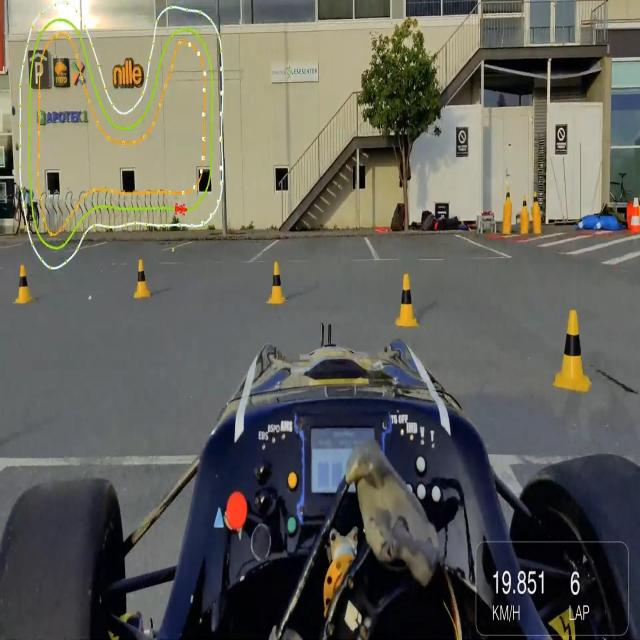large_orange_cone: (631, 194, 640, 232)
yellow_cone: (553, 306, 591, 393), (397, 272, 420, 329), (265, 260, 289, 306), (13, 262, 34, 308), (133, 257, 152, 300), (521, 194, 529, 216), (532, 192, 540, 210), (506, 187, 512, 208)
